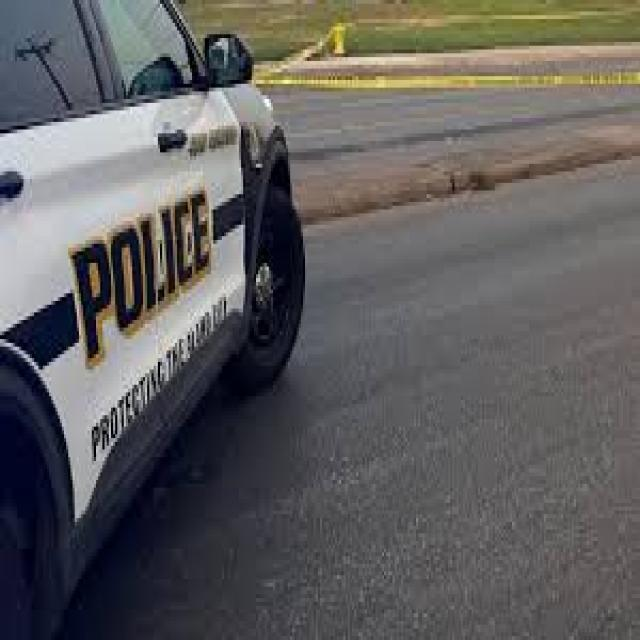cop: (0, 0, 305, 640)
